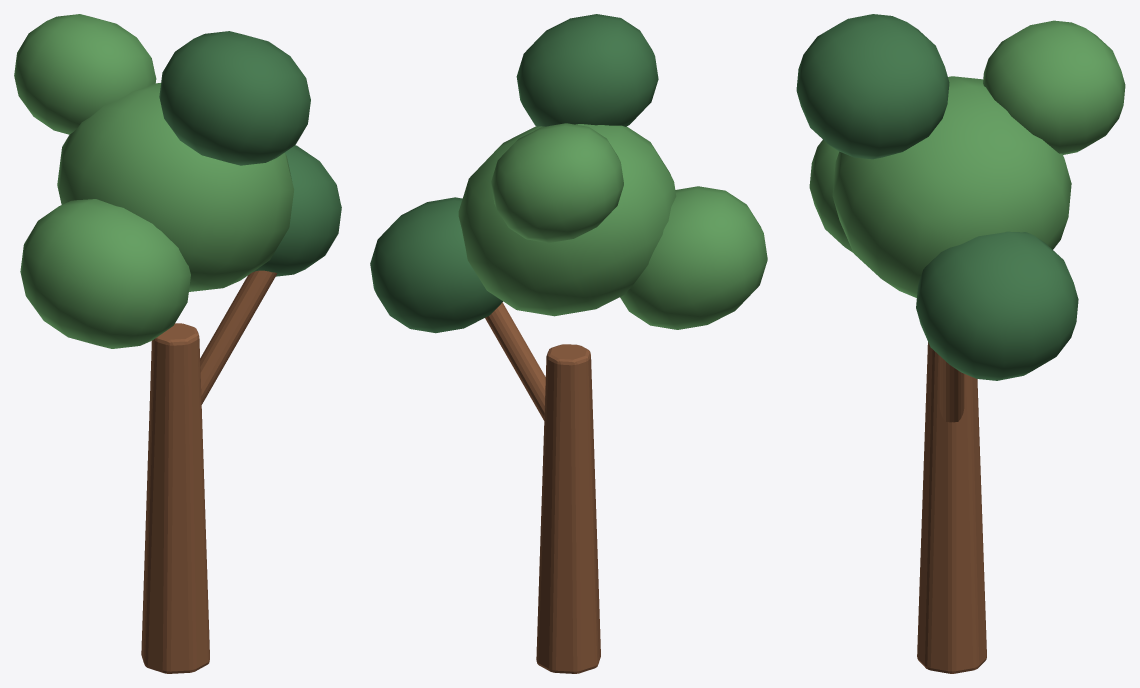
Rendered from tree_round.glb.
3 views of the same model, side by side, from view 1: azimuth 30°, elevation 25°; view 2: azimuth 150°, elevation 25°; view 3: azimuth 270°, elevation 25° (orthographic). The views are drawn at different scales.
Visible parts, largest first — view 1: tree_round; view 2: tree_round; view 3: tree_round.
Part boxes in pixels (box(x1,y1,x2,y2)): tree_round: box(14, 14, 341, 673); tree_round: box(370, 14, 767, 673); tree_round: box(796, 14, 1125, 673).
Bounding box in the file's own units: 1.78 × 3.14 × 1.46.
